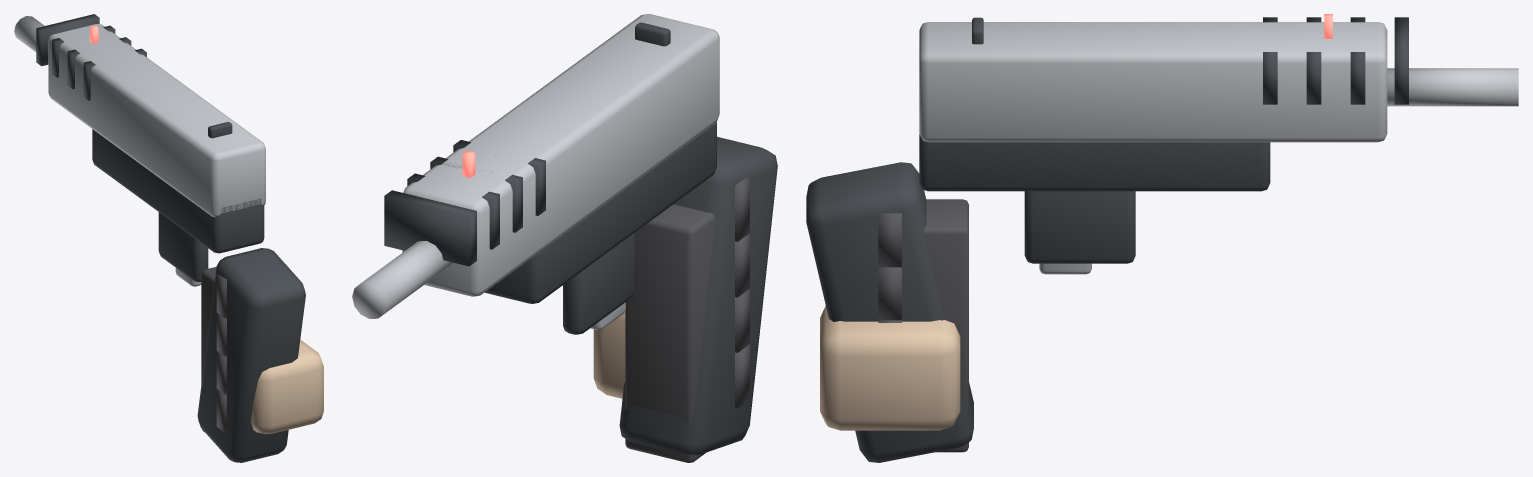
The model's file is pistol.glb.
The picture shows the model from 3 angles, left to right: view 1: azimuth 30°, elevation 25°; view 2: azimuth 150°, elevation 25°; view 3: azimuth 270°, elevation 25°; orthographic projection. The views are drawn at different scales.
Visible parts, largest first — view 1: WeaponMesh, Mag; view 2: WeaponMesh, Mag; view 3: WeaponMesh, Mag.
Boxes of the visible parts, x1,y1,x2,y2 form: WeaponMesh: (14,14,323,462); Mag: (201,267,216,431); WeaponMesh: (352,14,777,455); Mag: (625,204,715,462); WeaponMesh: (806,14,1518,462); Mag: (924,199,968,452).
Bounding box in the file's own units: 0.046 × 0.1638 × 0.2437.
